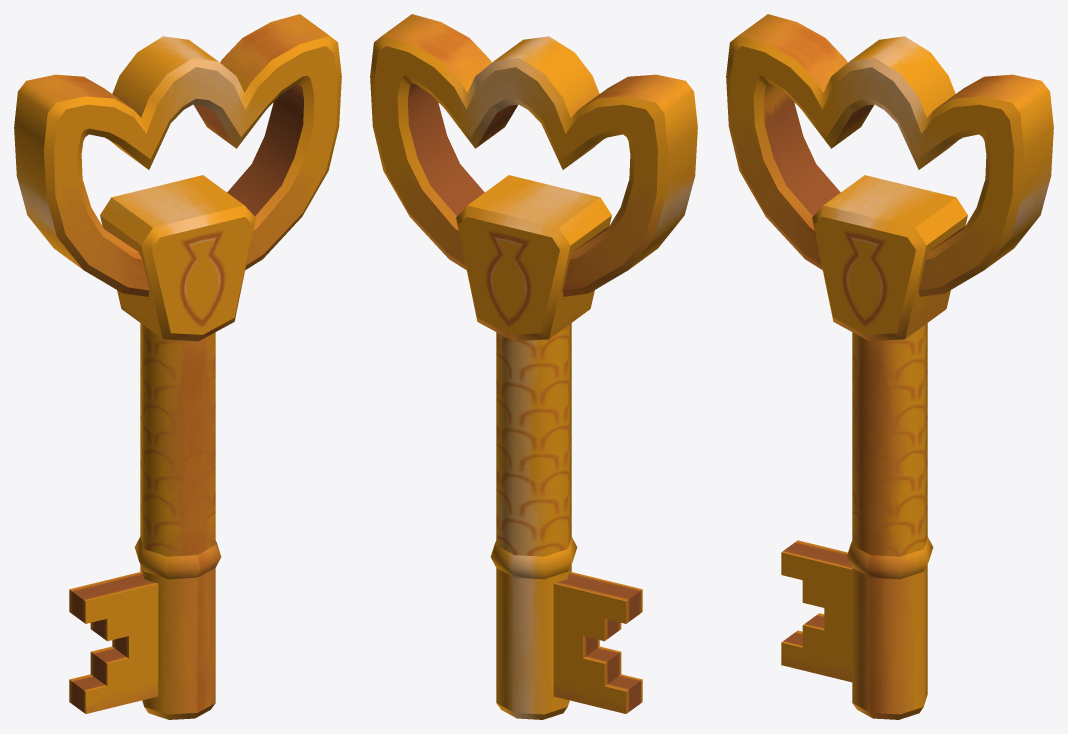
Rendered from gold_key.fbx.
The picture shows the model from 3 angles, left to right: view 1: azimuth 30°, elevation 25°; view 2: azimuth 150°, elevation 25°; view 3: azimuth 330°, elevation 25°; orthographic projection.
Parts seen in each view (by area): view 1: gold_key; view 2: gold_key; view 3: gold_key.
Boxes of the visible parts, <box> form: gold_key: <box>14,14,341,719</box>; gold_key: <box>370,14,697,719</box>; gold_key: <box>726,14,1053,719</box>.
Size of the model in its own units: 4.15 by 1.2 by 8.77.
